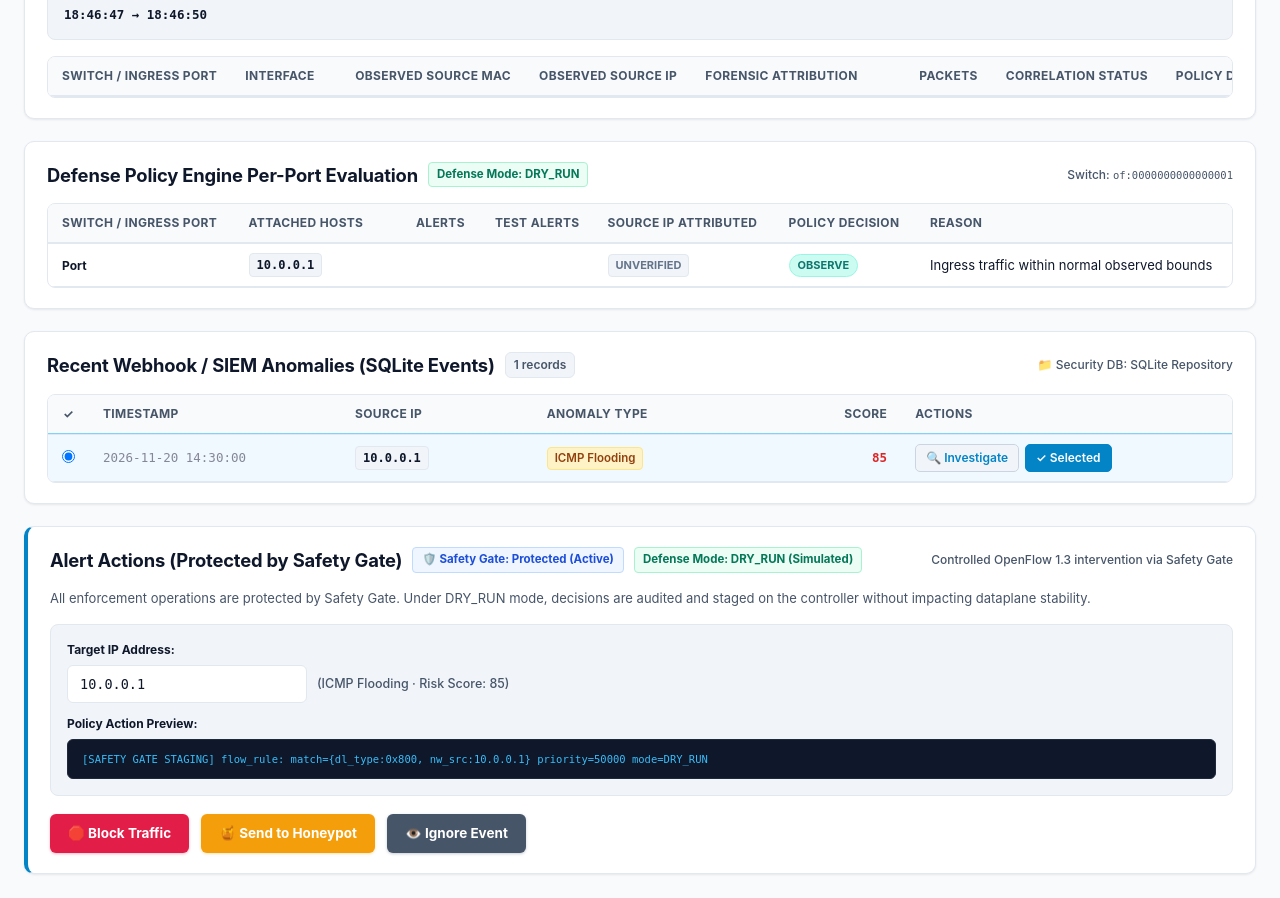
Test: AnomalyDetection Enterprise NOC/SOC Security Telemetry Verification › opens and closes Block modal cleanly
(page scrolled)
Expected: the text "ICMP Flooding" is shown, [547, 447, 644, 470]
Step 1. Click the button "🛑 Block Traffic" → (120,834), box [50, 814, 189, 853]
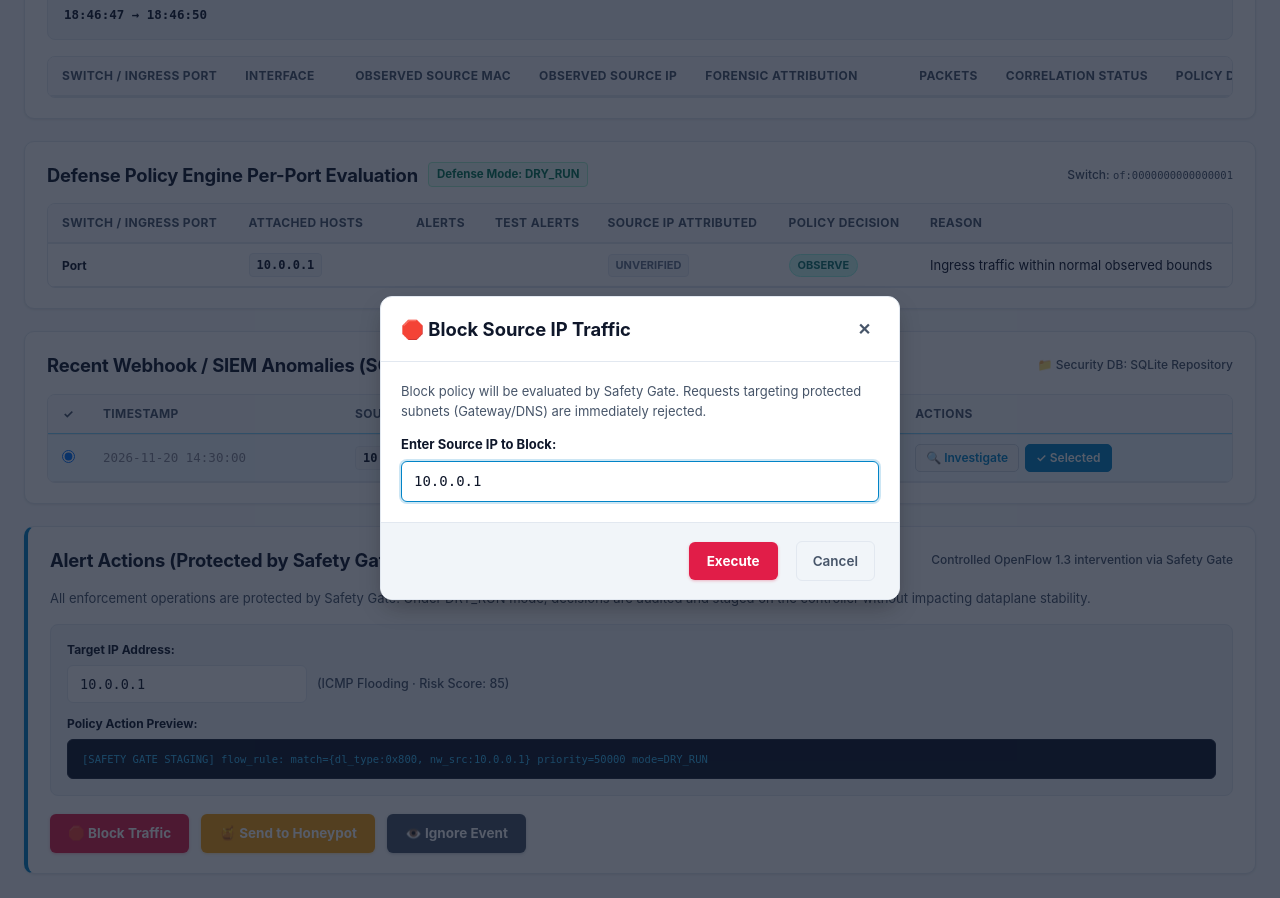
Now the heading "🛑 Block Source IP Traffic" is shown, box [401, 318, 631, 340]
# Close modal
Step 2. Click the button "Cancel" → (835,561), box [796, 541, 875, 581]
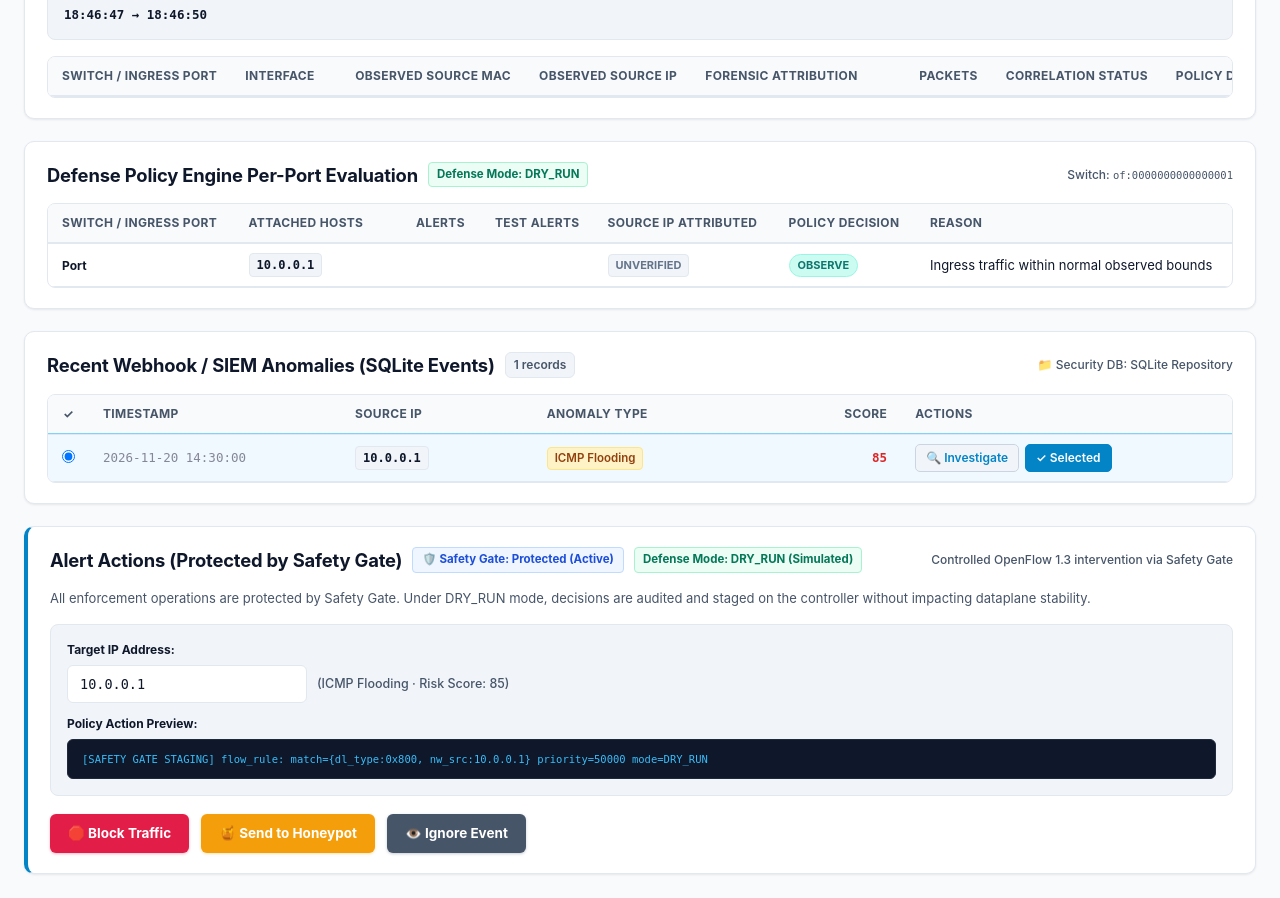
Now the heading "Block Source IP Traffic" is gone
